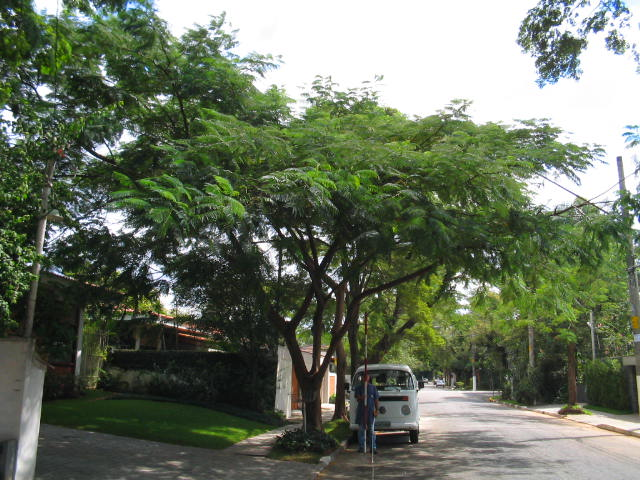crown: (118, 77, 607, 300)
stem: (290, 375, 331, 446)
stick: (358, 311, 371, 454)
tree: (115, 75, 605, 447)
